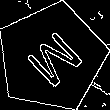M_SE: (17, 23, 86, 91)
